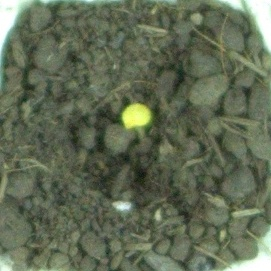chilli seed: (119, 102, 154, 130)
